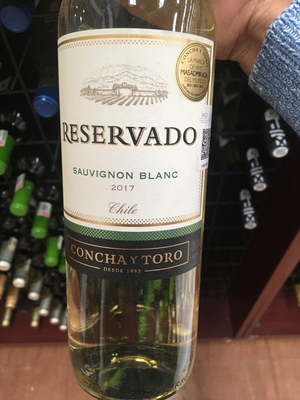reservado sauvignon blanc: (57, 3, 222, 400)
